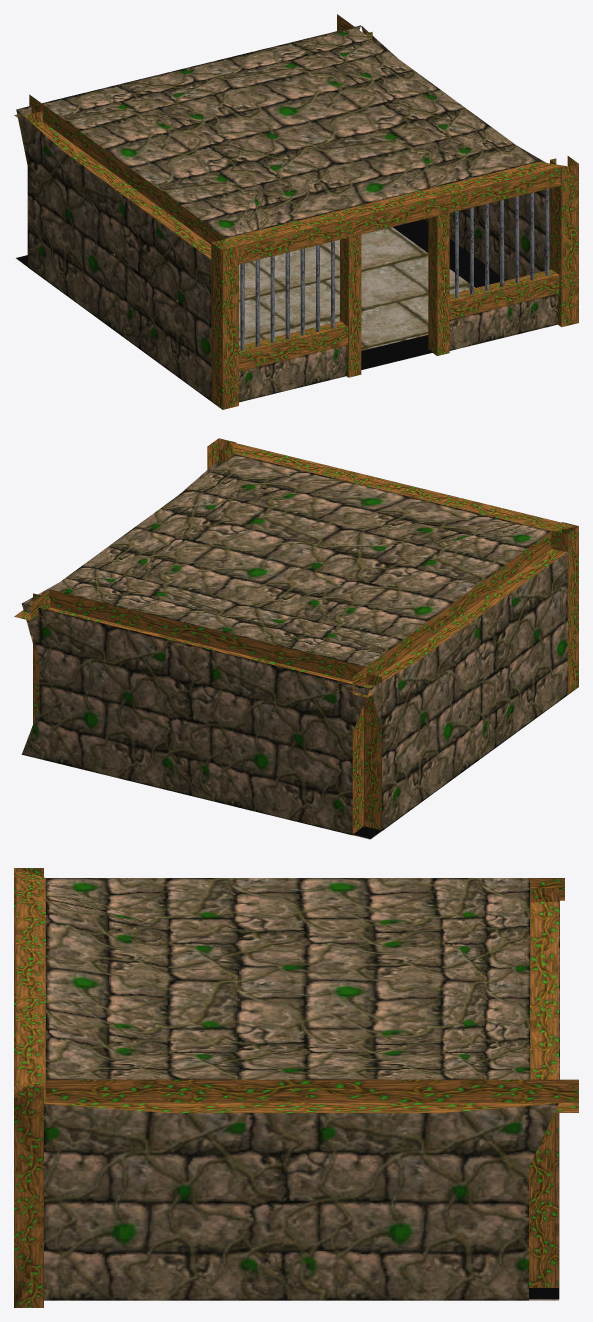
The model's file is INST_EKH_JAIL_CELL.fbx.
3 views of the same model, one above another, from view 1: azimuth 30°, elevation 25°; view 2: azimuth 150°, elevation 25°; view 3: azimuth 270°, elevation 25° (orthographic). The views are drawn at different scales.
Parts seen in each view (by area): view 1: INST_EKH_JAIL_CELL; view 2: INST_EKH_JAIL_CELL; view 3: INST_EKH_JAIL_CELL.
Boxes of the visible parts, x1,y1,x2,y2 form: INST_EKH_JAIL_CELL: [14, 14, 578, 409]; INST_EKH_JAIL_CELL: [14, 438, 578, 839]; INST_EKH_JAIL_CELL: [14, 868, 578, 1307].
Size of the model in its own units: 51904 by 22050 by 53725.
Materials: 8 (8 with a texture image).
